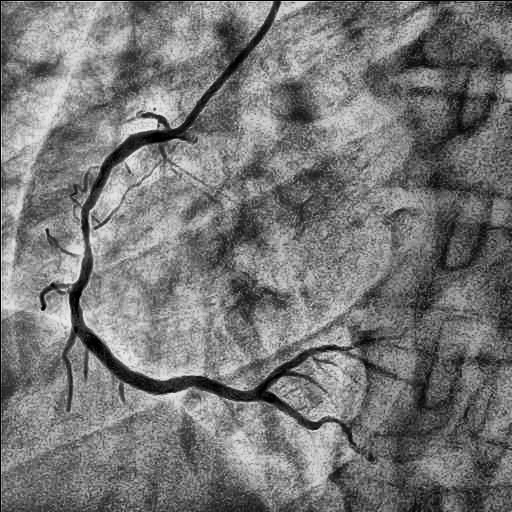pborca: (257, 345, 404, 392)
pda: (259, 391, 369, 455)
rca: (69, 130, 260, 401)
